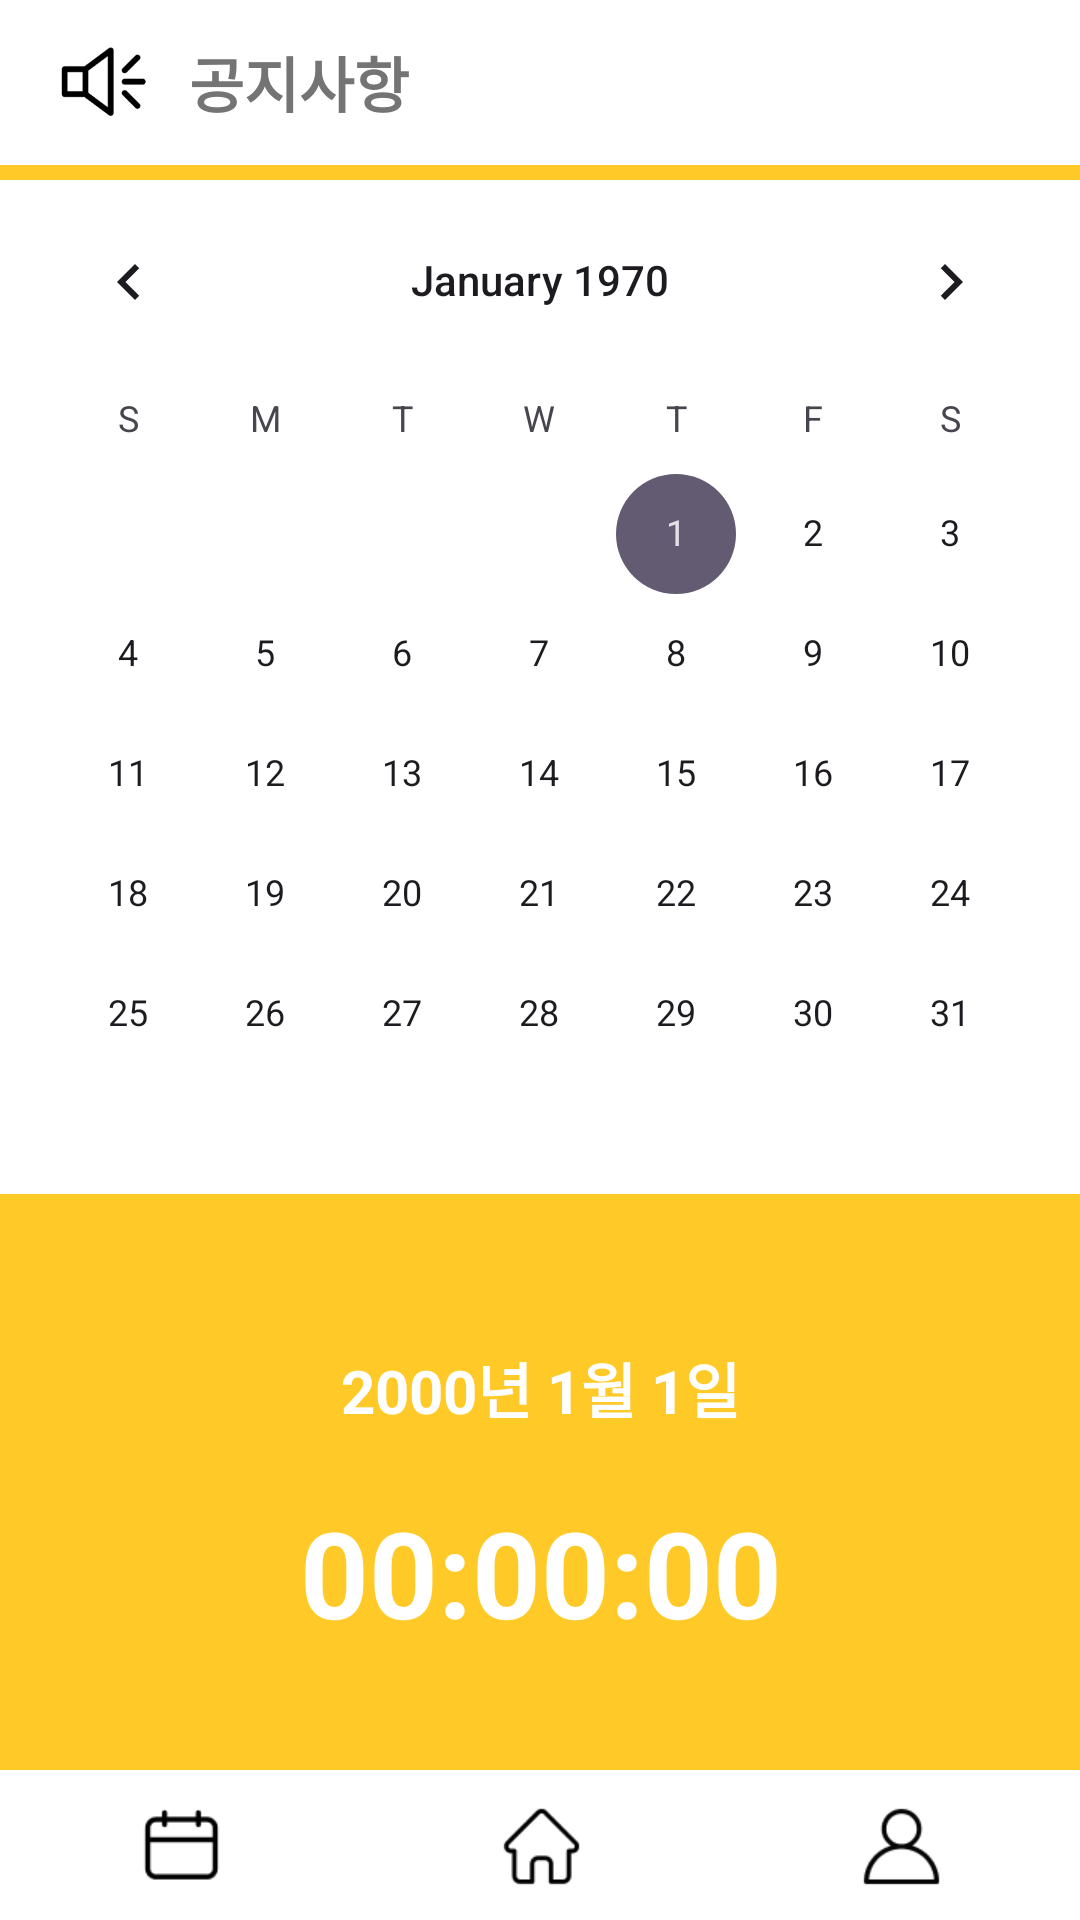

Screen size 1080 × 1920. Icon name, then its center in pixels as (x,y):
notice: (103,81)
